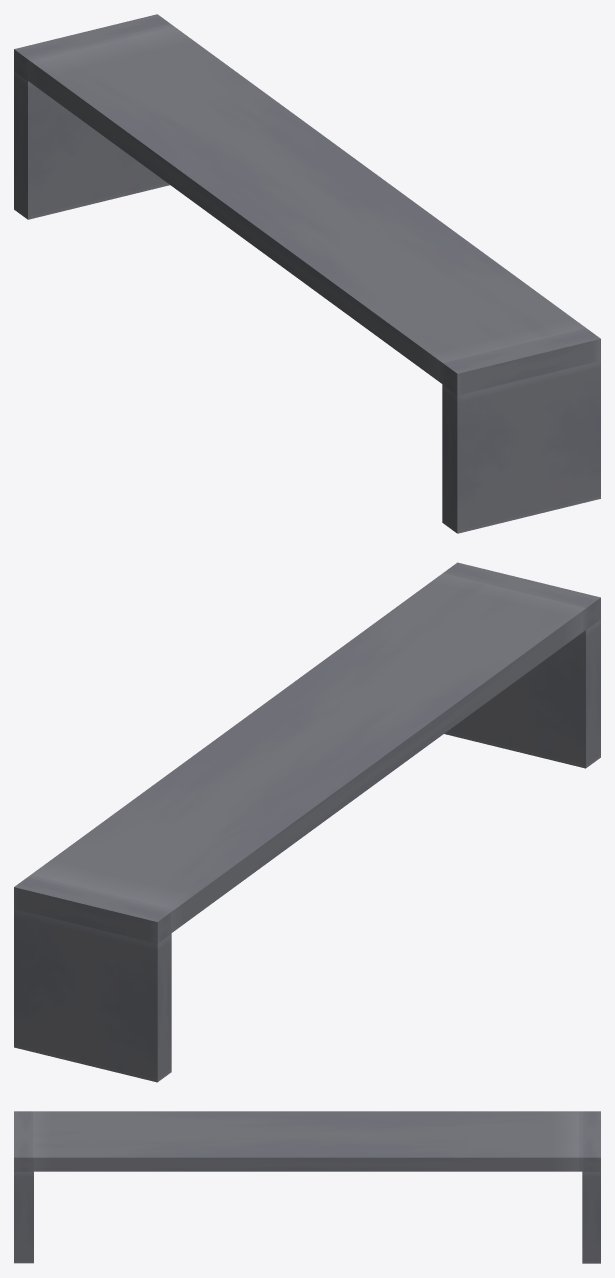
File: SteinBank.fbx
3 renders of one model, top to bottom at view 1: azimuth 30°, elevation 25°; view 2: azimuth 150°, elevation 25°; view 3: azimuth 270°, elevation 25°, orthographic. The views are drawn at different scales.
Visible parts, largest first — view 1: Stein Bank; view 2: Stein Bank; view 3: Stein Bank.
Boxes of the visible parts, x1,y1,x2,y2 form: Stein Bank: [14, 14, 600, 533]; Stein Bank: [14, 562, 600, 1082]; Stein Bank: [14, 1111, 600, 1263].
Size of the model in its own units: 70 by 74.75 by 375.
